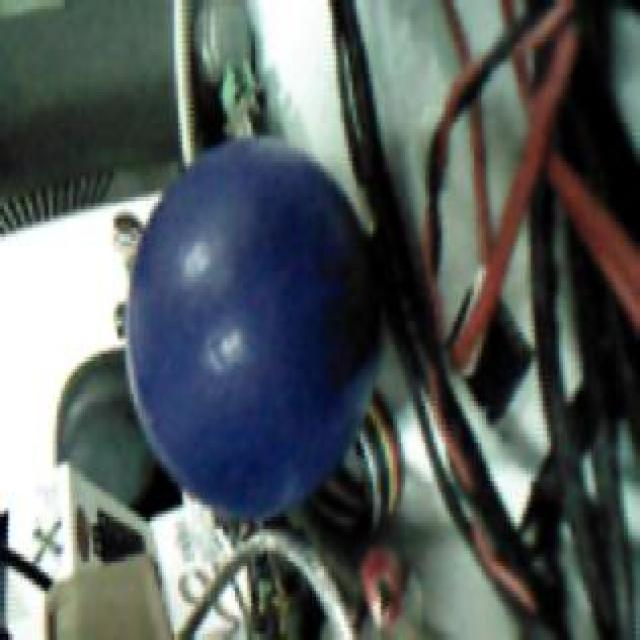BallPurple: (124, 140, 382, 521)
